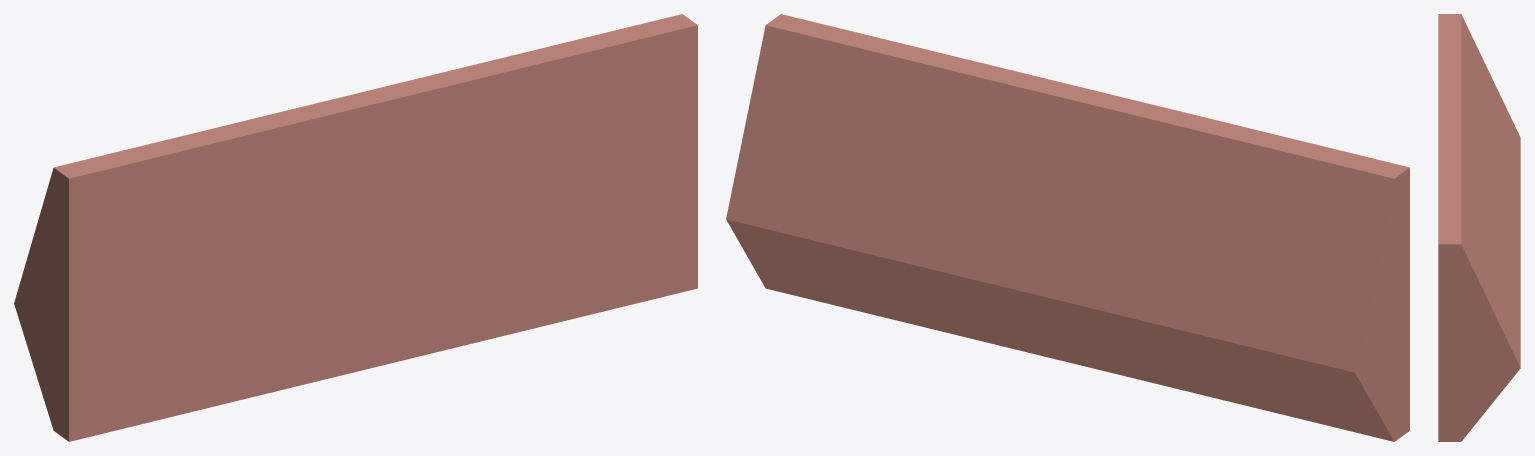
The model's file is CornderTrim01.fbx.
The picture shows the model from 3 angles, left to right: view 1: azimuth 30°, elevation 25°; view 2: azimuth 150°, elevation 25°; view 3: azimuth 270°, elevation 25°; orthographic projection. The views are drawn at different scales.
Visible parts, largest first — view 1: CornderTrim01.002; view 2: CornderTrim01.002; view 3: CornderTrim01.002.
Boxes of the visible parts, bbox=[...] form: CornderTrim01.002: bbox=[14, 14, 697, 441]; CornderTrim01.002: bbox=[726, 14, 1409, 441]; CornderTrim01.002: bbox=[1438, 14, 1520, 441].
Bounding box in the file's own units: 500 × 200 × 75.7.
